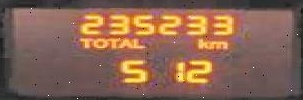1: (172, 58, 183, 83)
2: (185, 58, 211, 83), (76, 13, 102, 34), (156, 13, 178, 34)
3: (209, 13, 234, 34), (104, 13, 127, 34), (185, 13, 205, 34)
5: (113, 57, 147, 83), (129, 13, 154, 34)
X: (207, 38, 227, 48), (129, 37, 145, 48), (76, 35, 89, 48), (89, 37, 104, 48), (104, 37, 118, 48), (118, 37, 129, 48), (196, 36, 205, 49)
